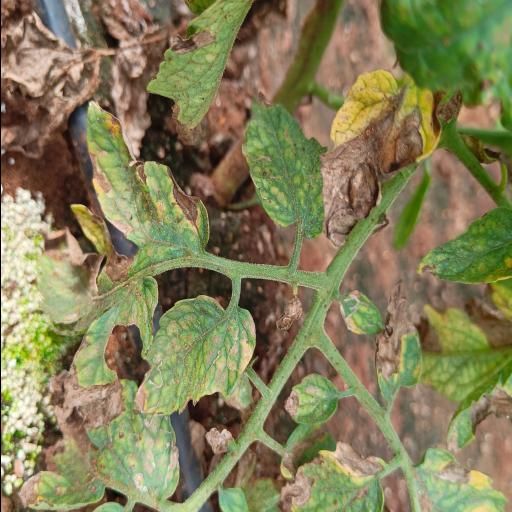Early Blight: (320, 65, 444, 255), (80, 96, 210, 254), (278, 438, 392, 512), (372, 273, 422, 403), (281, 372, 342, 430)
